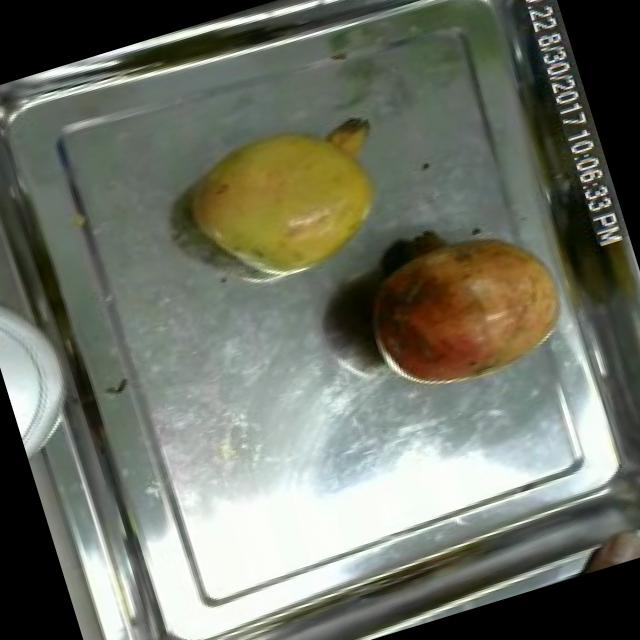fruit: (160, 94, 409, 308), (342, 198, 594, 408), (553, 519, 640, 580)
